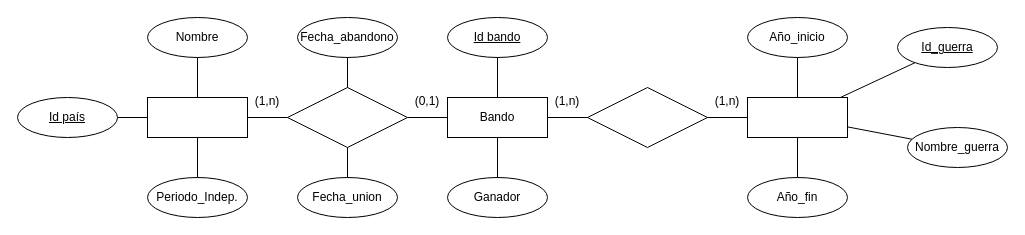
Image size: 1025x235. Some labels were removed from this diagram. The box of each missing label's shape, as (x1, y1, x2, y2) in pixels:
Guerra: (746, 96, 848, 138)
Pais: (146, 96, 248, 138)
Participa: (586, 86, 708, 148)
pertenece: (286, 86, 408, 148)
